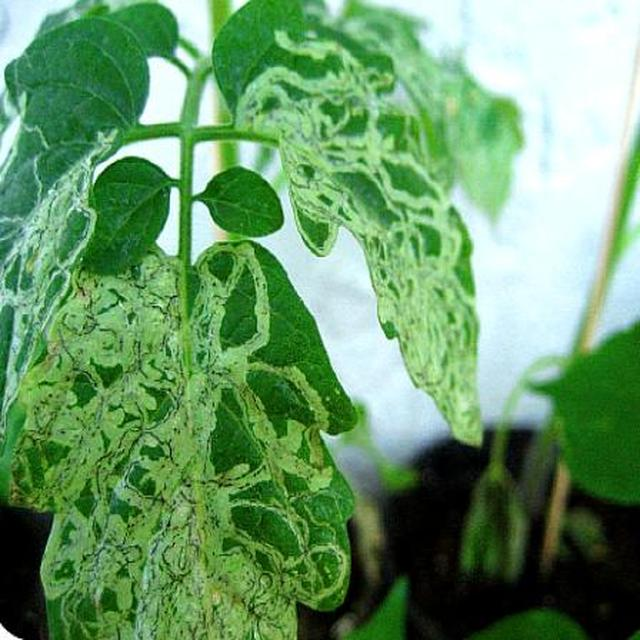Leaf Miner: (258, 321, 515, 640)
